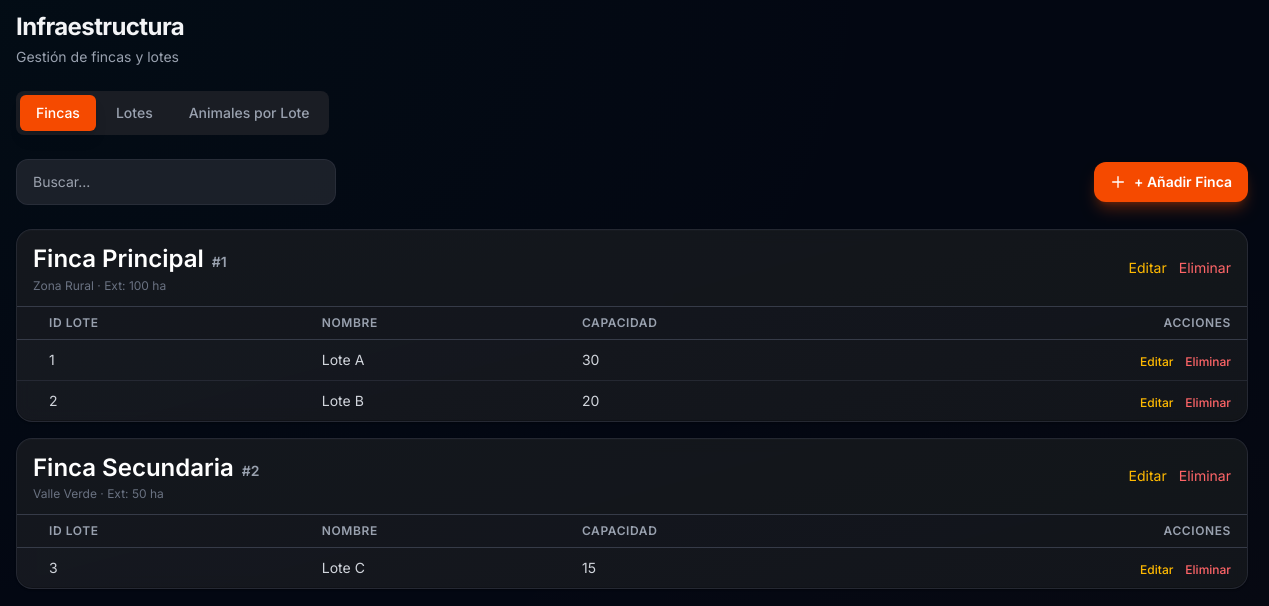
Test: InfraestructuraPage › cambia al tab Animales por Lote
The image size is (1269, 606).
Expected: the heading "Finca Principal#1" is shown, [33, 244, 227, 273]
Click the button "Animales por Lote": (249, 113) [173, 95, 326, 131]
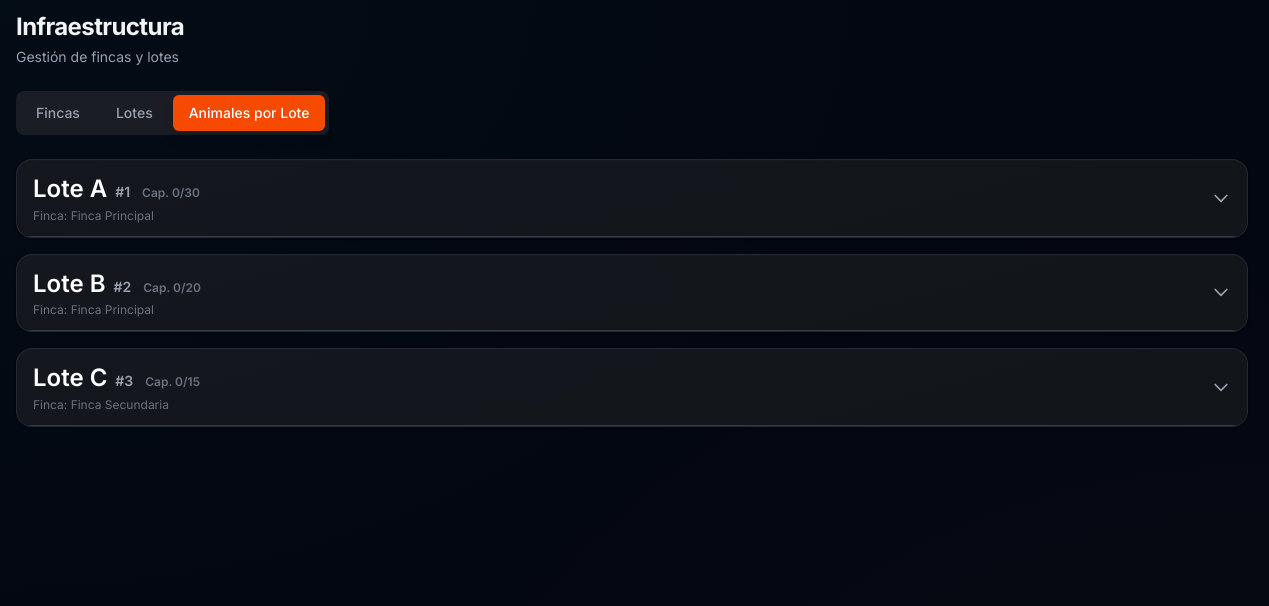
Expected: the heading "Lote A#1Cap. 0/30" is shown, [33, 172, 200, 206]
